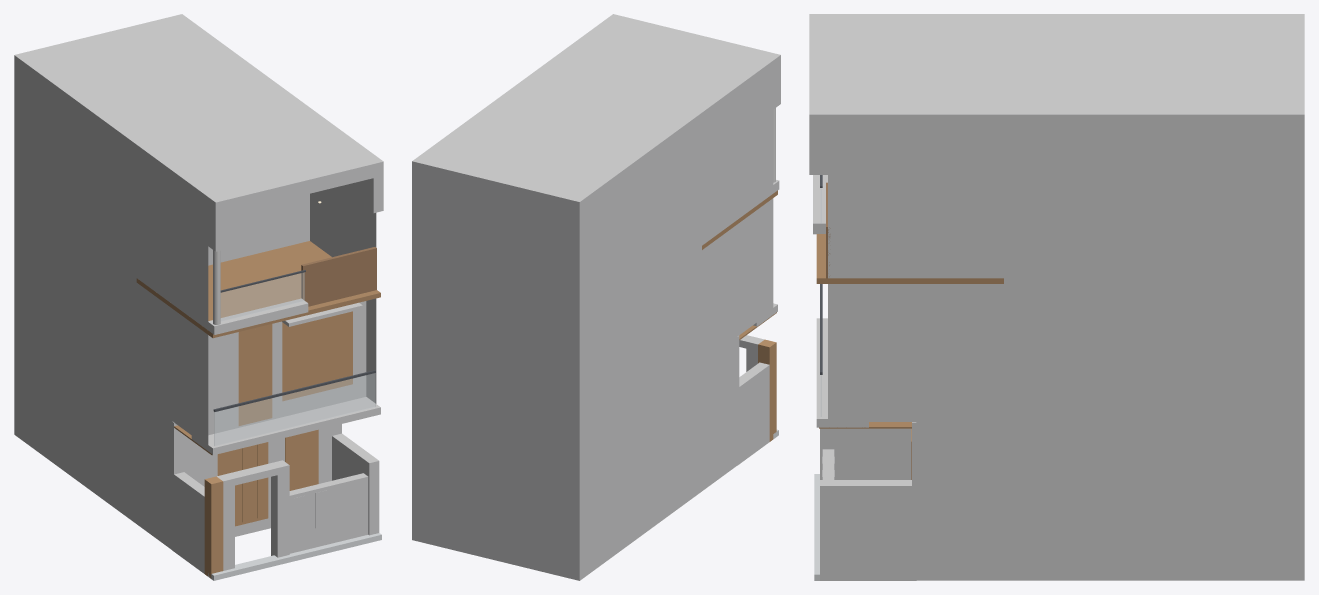
The model's file is tube-house3.glb.
The picture shows the model from 3 angles, left to right: view 1: azimuth 30°, elevation 25°; view 2: azimuth 150°, elevation 25°; view 3: azimuth 270°, elevation 25°; orthographic projection. The views are drawn at different scales.
Parts seen in each view (by area): view 1: House_Core_Body_0, F2_Balcony_Wood_Soffit_40, F2_Recessed_White_Wall_34, F2_Glass_Balcony_Railing_32, F2_Right_Win_Frame_37, GF_Wall_Stepped_Parapet_6, Roof_Canopy_Top_Beam_50, F2_Balcony_Floor_Slab_31, GF_Recessed_White_Wall_20, F3_Right_Wood_Wall_49, F2_Door_Frame_35, GF_Wall_Side_Pillar.001_71 (+15 smaller); view 2: House_Core_Body_0, GF_Wall_Side_Pillar.001_71, Roof_Canopy_Top_Beam_50, GF_Carport_L_Pillar_2; view 3: House_Core_Body_0, GF_Wall_Side_Pillar_7, GF_Wall_Side_Pillar.001_71, Roof_Canopy_Top_Beam_50, F2_Balcony_Wood_Soffit_40, F2_Balcony_Floor_Slab_31, Roof_Canopy_R_Pillar_52, GF_Recessed_White_Wall_20, F3_Balcony_Floor_Lip_45, GF_Entrance_Apron_1.
Part boxes in pixels (left/top/right/bottom): House_Core_Body_0: left=14, top=14, right=376, bottom=549; F2_Balcony_Wood_Soffit_40: left=136, top=241, right=380, bottom=338; F2_Recessed_White_Wall_34: left=197, top=301, right=366, bottom=435; F2_Glass_Balcony_Railing_32: left=214, top=373, right=375, bottom=445; F2_Right_Win_Frame_37: left=282, top=311, right=352, bottom=400; GF_Wall_Stepped_Parapet_6: left=289, top=473, right=368, bottom=553; Roof_Canopy_Top_Beam_50: left=208, top=156, right=383, bottom=216; F2_Balcony_Floor_Slab_31: left=191, top=397, right=380, bottom=455; GF_Recessed_White_Wall_20: left=172, top=421, right=341, bottom=551; F3_Right_Wood_Wall_49: left=301, top=247, right=376, bottom=306; F2_Door_Frame_35: left=238, top=324, right=272, bottom=425; GF_Wall_Side_Pillar.001_71: left=174, top=472, right=204, bottom=573; House_Core_Body_0: left=412, top=19, right=773, bottom=580; GF_Wall_Side_Pillar.001_71: left=739, top=362, right=769, bottom=463; Roof_Canopy_Top_Beam_50: left=606, top=14, right=780, bottom=73; GF_Carport_L_Pillar_2: left=758, top=339, right=776, bottom=441; House_Core_Body_0: left=828, top=14, right=1304, bottom=580; GF_Wall_Side_Pillar_7: left=820, top=480, right=911, bottom=580; GF_Wall_Side_Pillar.001_71: left=837, top=428, right=911, bottom=479; Roof_Canopy_Top_Beam_50: left=809, top=14, right=828, bottom=131; F2_Balcony_Wood_Soffit_40: left=816, top=234, right=1003, bottom=283; F2_Balcony_Floor_Slab_31: left=816, top=318, right=868, bottom=427; Roof_Canopy_R_Pillar_52: left=809, top=123, right=828, bottom=174; GF_Recessed_White_Wall_20: left=912, top=422, right=916, bottom=580; F3_Balcony_Floor_Lip_45: left=813, top=175, right=827, bottom=234; GF_Entrance_Apron_1: left=814, top=474, right=819, bottom=580.
Size of the model in its own units: 5 by 10.8 by 10.39.
